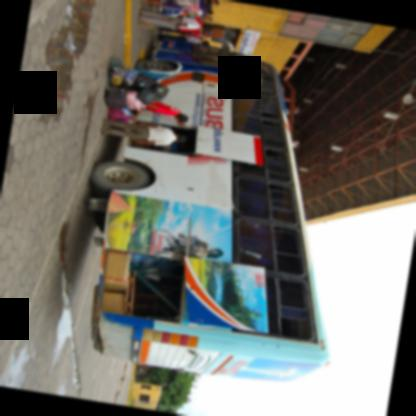backpack: (171, 0, 196, 6)
handbag: (159, 0, 184, 9), (160, 8, 178, 15)
suitcase: (103, 86, 125, 108), (131, 72, 157, 88), (147, 82, 168, 98), (120, 70, 138, 86), (107, 66, 123, 78)
